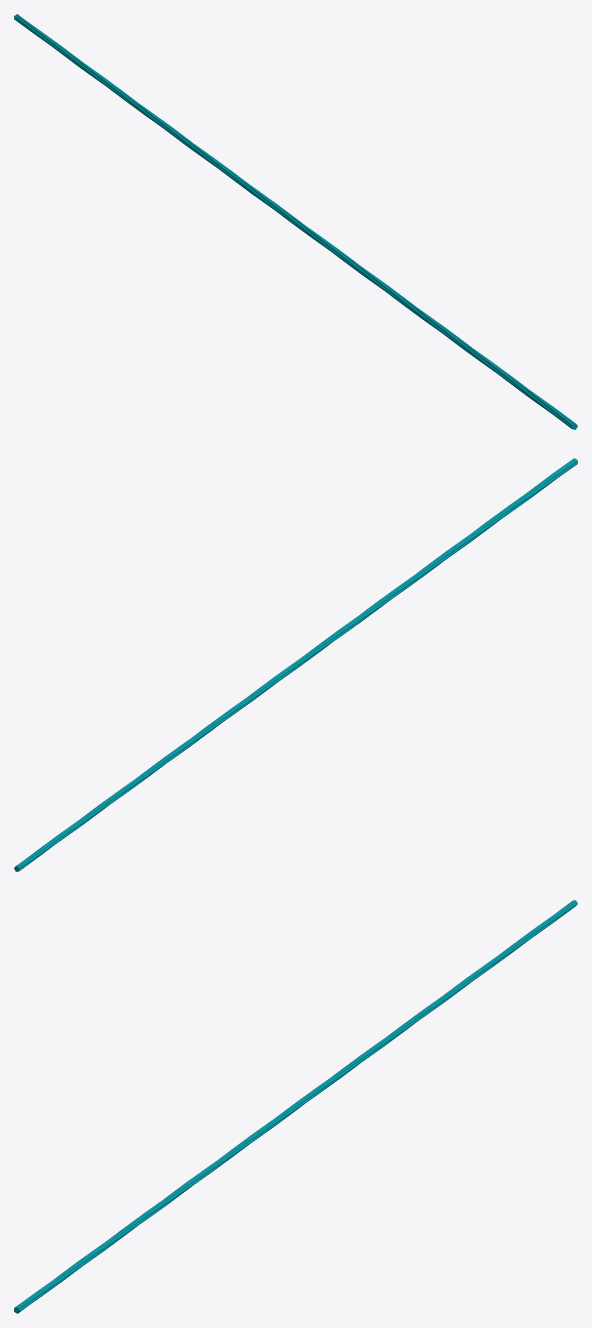
Rendered from wire.fbx.
3 renders of one model, top to bottom at view 1: azimuth 30°, elevation 25°; view 2: azimuth 150°, elevation 25°; view 3: azimuth 330°, elevation 25°, orthographic.
Visible parts, largest first — view 1: sweep1; view 2: sweep1; view 3: sweep1.
Part boxes in pixels (left/top/right/bottom): sweep1: left=14, top=14, right=577, bottom=429; sweep1: left=14, top=458, right=577, bottom=871; sweep1: left=14, top=900, right=577, bottom=1313.
Bounding box in the file's own units: 0.0148 × 0.013 × 2.02.
